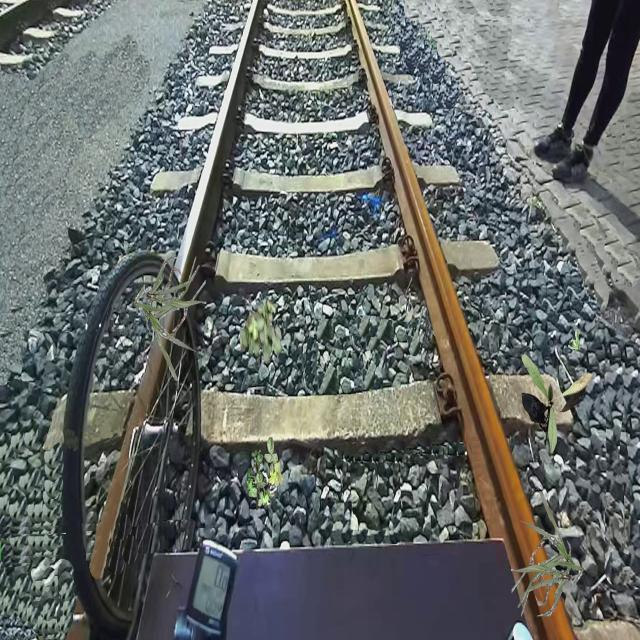Plant: (134, 257, 207, 382), (511, 492, 584, 616), (521, 354, 592, 454), (239, 298, 282, 364), (246, 437, 284, 510), (568, 330, 582, 350)
